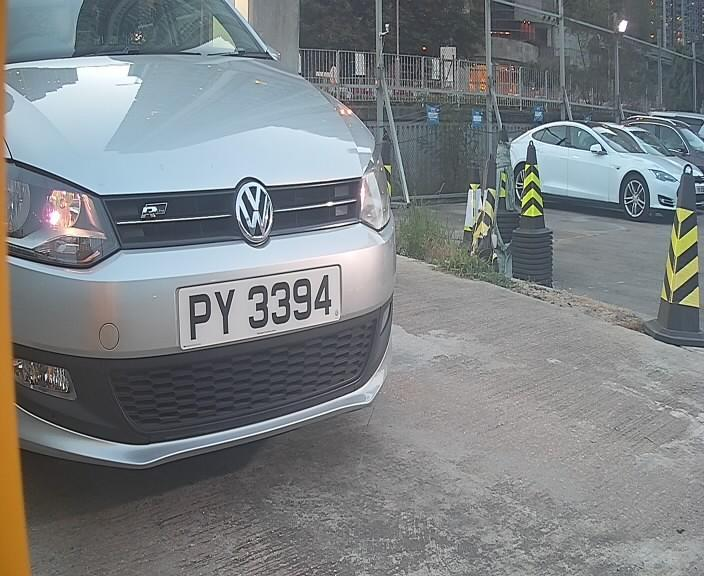License Plate: (173, 260, 340, 345)
